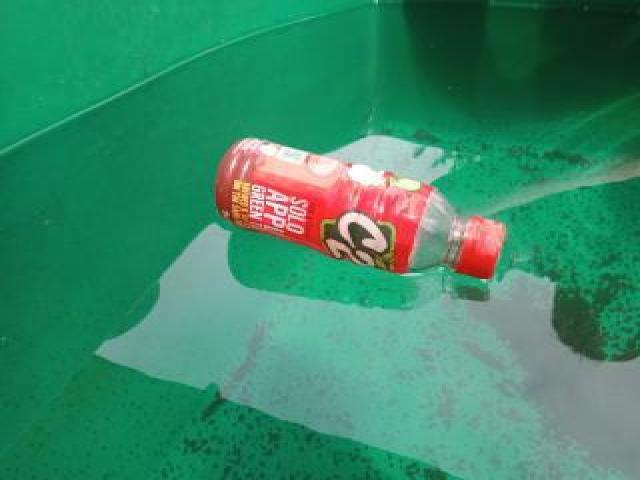Bottle: (212, 136, 510, 282)
